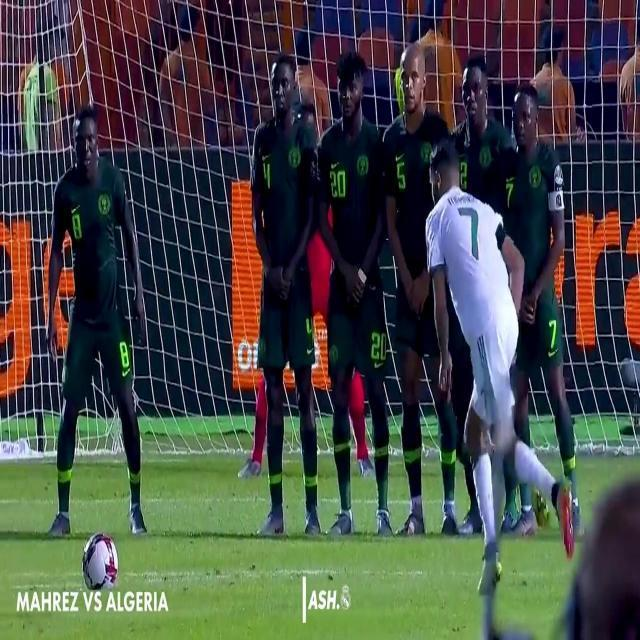ball: (79, 527, 121, 597)
player: (41, 103, 156, 540), (427, 131, 527, 565), (242, 59, 325, 528), (505, 85, 583, 550), (320, 51, 390, 528), (386, 45, 450, 514), (453, 54, 514, 208)
